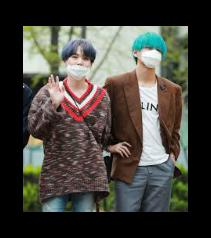mask_weared_incorrect: (71, 52, 88, 77)
with_mask: (143, 45, 160, 66)
